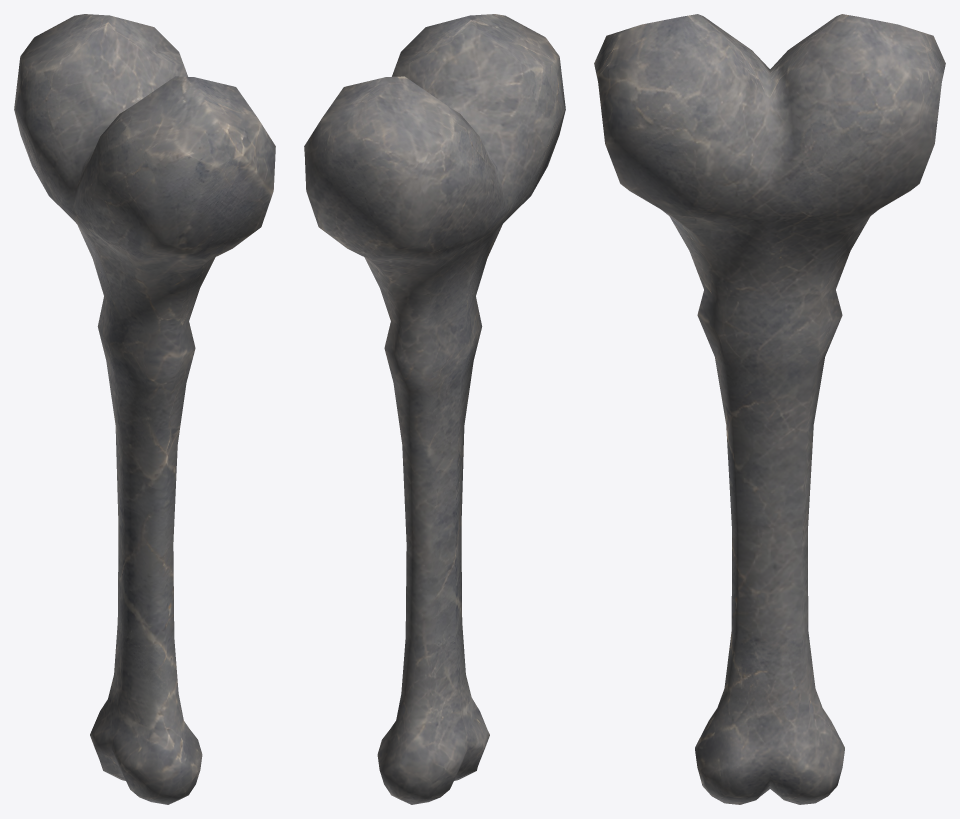
File: CLUB13D.glb
The picture shows the model from 3 angles, left to right: view 1: azimuth 30°, elevation 25°; view 2: azimuth 150°, elevation 25°; view 3: azimuth 270°, elevation 25°; orthographic projection. The views are drawn at different scales.
Visible parts, largest first — view 1: tripo_node_b17584f5-271f-47d1-bb51-4112243a0a12; view 2: tripo_node_b17584f5-271f-47d1-bb51-4112243a0a12; view 3: tripo_node_b17584f5-271f-47d1-bb51-4112243a0a12.
Part boxes in pixels (left/top/right/bottom): tripo_node_b17584f5-271f-47d1-bb51-4112243a0a12: left=14, top=14, right=275, bottom=804; tripo_node_b17584f5-271f-47d1-bb51-4112243a0a12: left=304, top=14, right=565, bottom=804; tripo_node_b17584f5-271f-47d1-bb51-4112243a0a12: left=594, top=14, right=945, bottom=804.
Bounding box in the file's own units: 0.228 × 0.9995 × 0.4058.
1 material, 1 textured.
